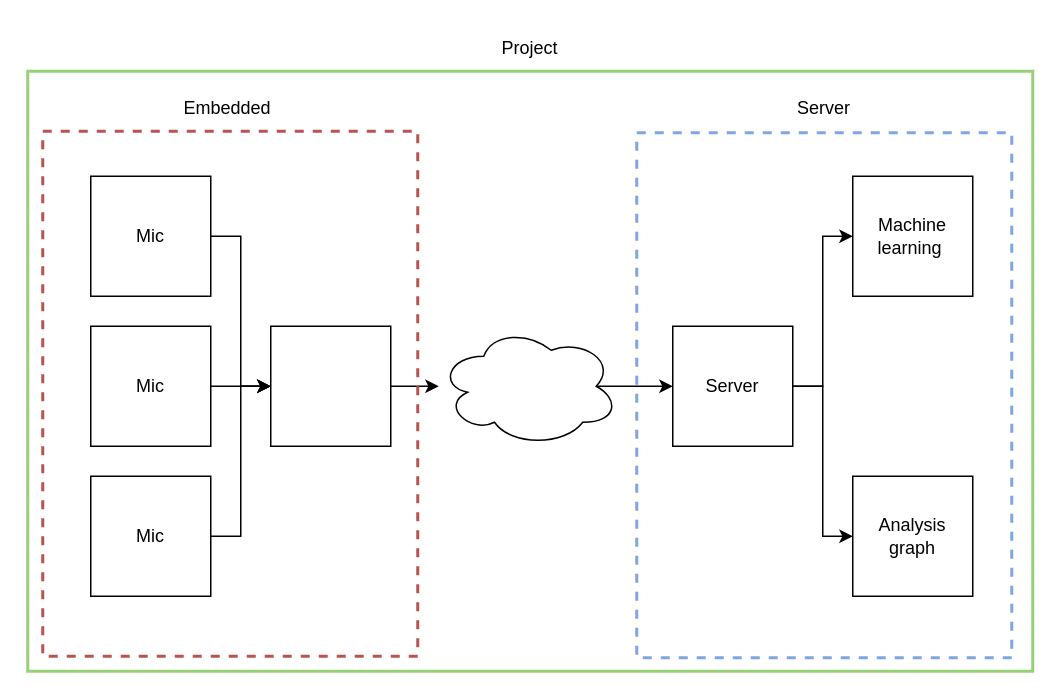
The diagram is 1059 pixels wide and 698 high, and some of its shapes have lost their labels. Each missing label, with the centre of its shape:
"Esp32" belongs at (330,385).
"Network" belongs at (528,385).
